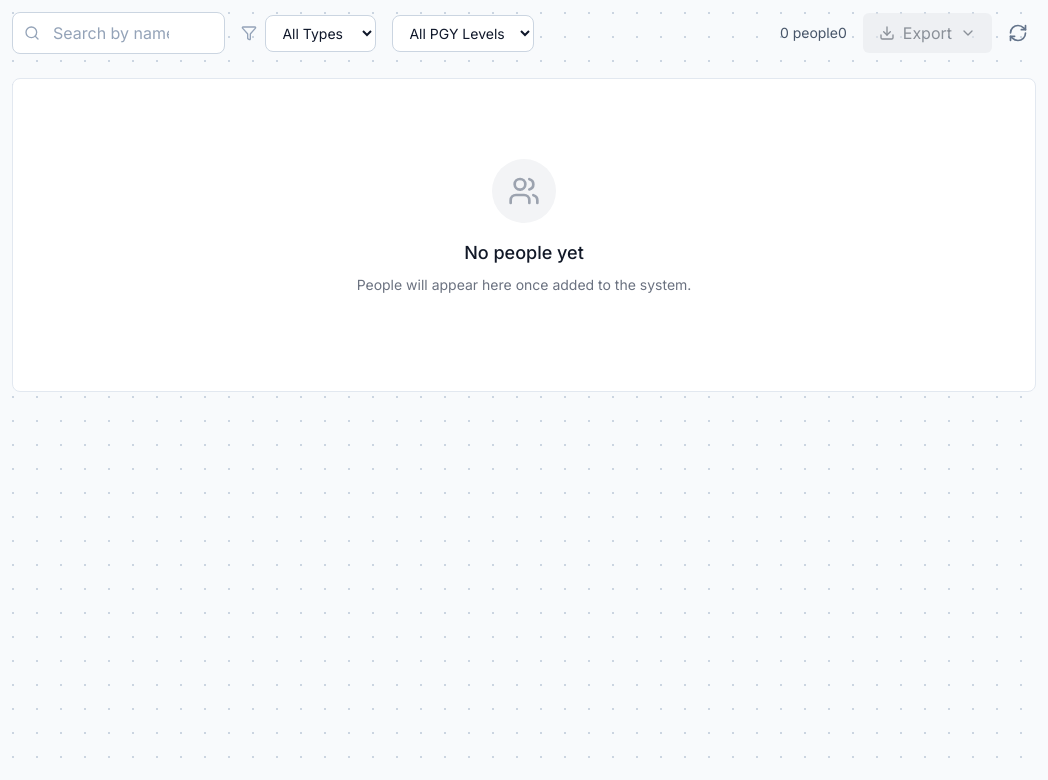
Scenario: PeopleDirectory › Empty State › shows different message when filters return no results
Type in search
Type "nonexistent" into the search field at {"x": 119, "y": 33}, box [12, 12, 225, 54]
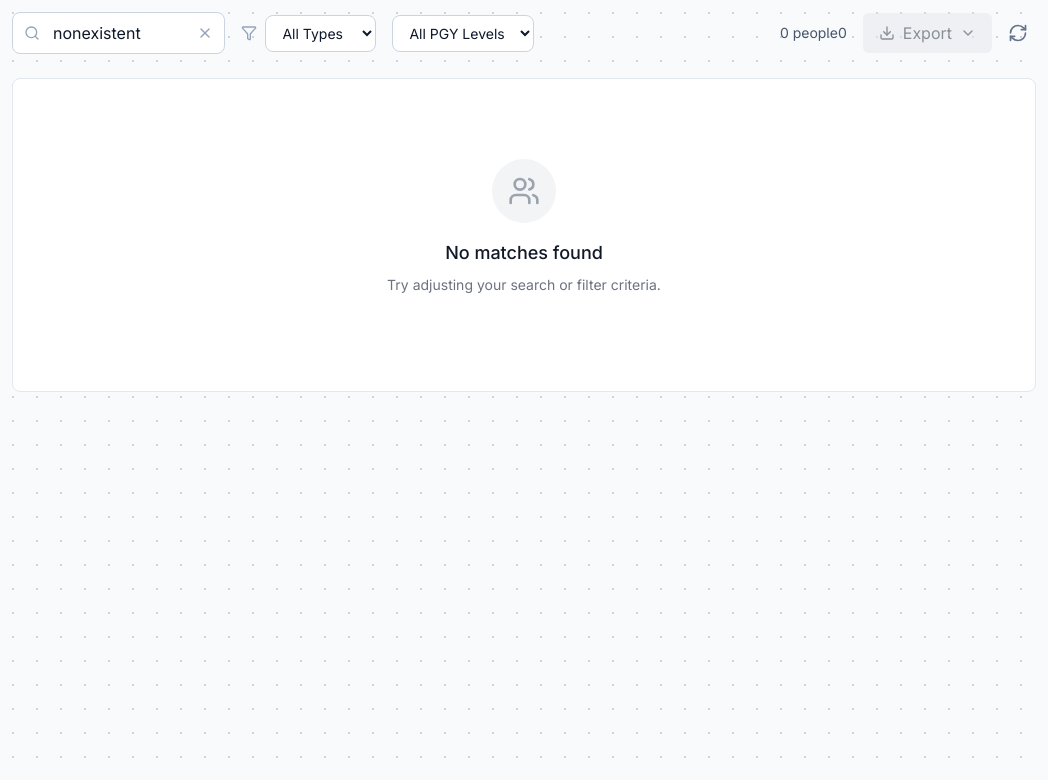
Result: the heading "No matches found" is shown at [445, 239, 603, 267]
